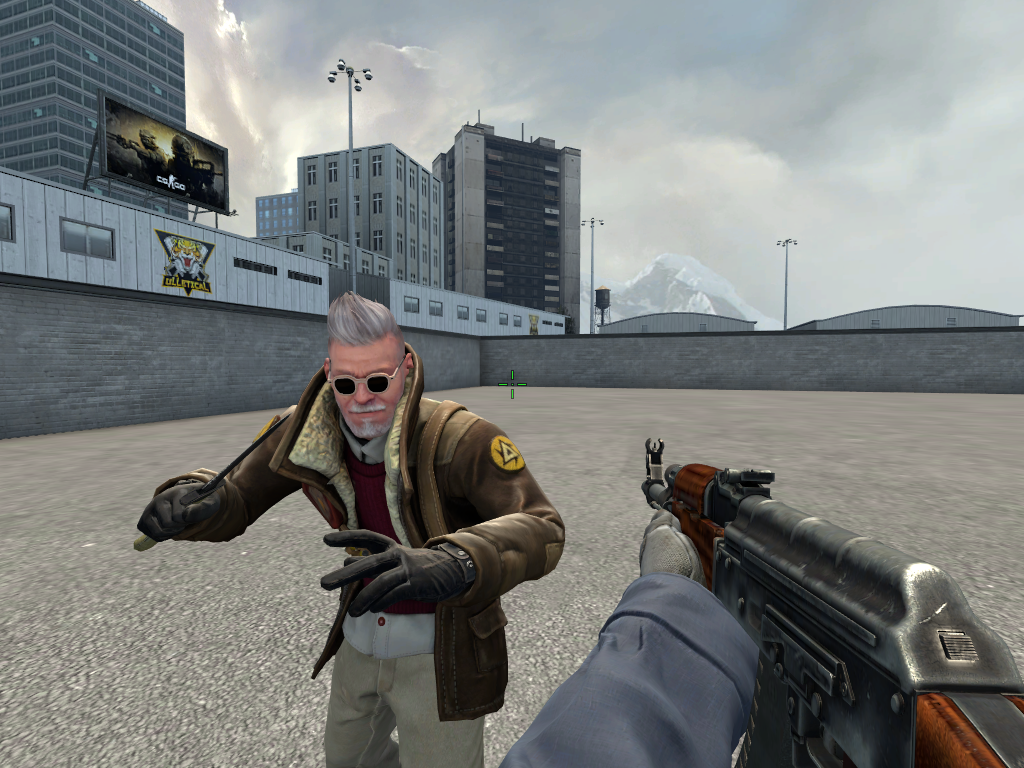tr head: (321, 288, 415, 441)
